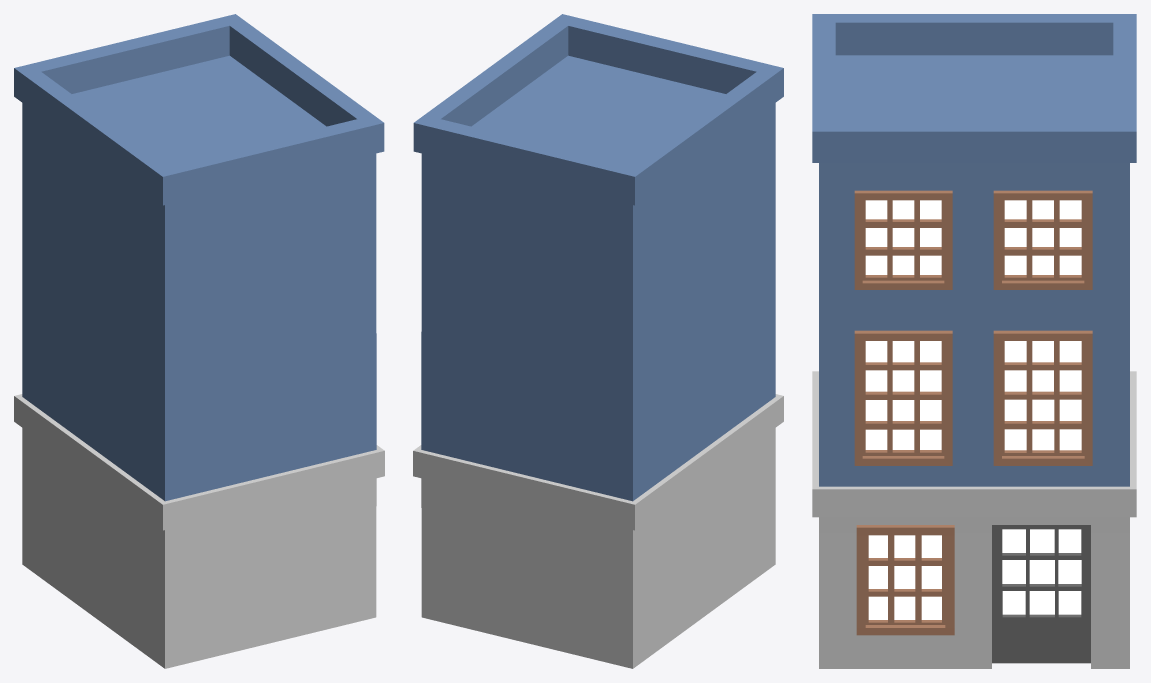
The model's file is House 4.4.fbx.
3 views of the same model, side by side, from view 1: azimuth 30°, elevation 25°; view 2: azimuth 150°, elevation 25°; view 3: azimuth 270°, elevation 25° (orthographic). The views are drawn at different scales.
Parts seen in each view (by area): view 1: House 4.005; view 2: House 4.005; view 3: House 4.005.
Boxes of the visible parts, x1,y1,x2,y2 form: House 4.005: (14,14,384,668); House 4.005: (413,14,783,668); House 4.005: (812,14,1136,668).
Bounding box in the file's own units: 857 × 1829 × 995.
